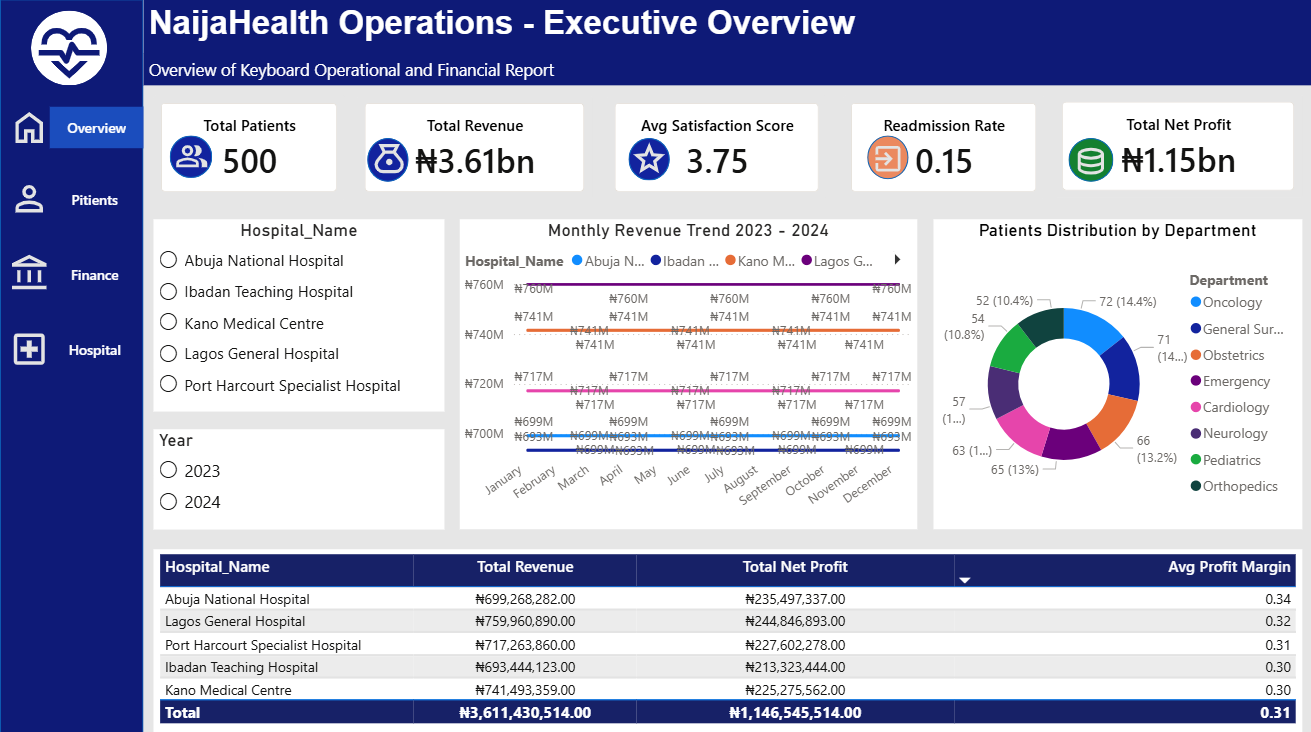

This screenshot's page, from the dashboard's own definition file:
{"tool":"powerbi","page":{"name":"Executive Overview","canvas":[1280,720],"ordinal":0},"visuals":[{"type":"textbox","box":[152,10.9,1128,51.9],"z":0},{"type":"cardVisual","fields":{"Data":["> Measures.Total Patients"]},"box":[161.7,103.8,184.6,100.1],"z":1000},{"type":"cardVisual","fields":{"Data":["> Measures.Total Net Profit"]},"box":[1031.5,102.5,238.9,100.1],"z":2000},{"type":"cardVisual","fields":{"Data":["> Measures.Readmission Rate"]},"box":[827.6,103.8,193,100.1],"z":3000},{"type":"cardVisual","fields":{"Data":["> Measures.Total Revenue"]},"box":[358.3,103.8,226.8,100.1],"z":4000},{"type":"cardVisual","fields":{"Data":["> Measures.Avg Satisfaction Score"]},"box":[599.6,103.8,211.1,100.1],"z":5000},{"type":"lineChart","title":"Monthly Revenue Trend 2023 - 2024","fields":{"Category":["DateTable.Date.Variation.Date Hierarchy.Month"],"Y":["> Measures.Total Revenue"],"Series":["Hospital.Hospital_Name"]},"box":[457.2,223.2,441.6,299.2],"z":6000},{"type":"donutChart","title":"Patients Distribution by Department","fields":{"Category":["Patient_Records.Department"],"Y":["> Measures.Total Patients"]},"box":[914.5,223.2,355.9,299.2],"z":7000},{"type":"tableEx","fields":{"Values":["Hospital.Hospital_Name","> Measures.Total Revenue","> Measures.Total Net Profit","> Measures.Avg Profit Margin"]},"box":[161.7,541.7,1108.7,178.6],"z":8000},{"type":"listSlicer","fields":{"Values":["Hospital.Hospital_Name"]},"box":[161.7,223.2,281.1,185.8],"z":9000},{"type":"listSlicer","fields":{"Values":["DateTable.Date.Variation.Date Hierarchy.Year"]},"box":[161.7,425.9,281.1,96.5],"z":10000},{"type":"shape","box":[13.3,10.9,138.7,709.4],"z":11000},{"type":"shape","box":[43.4,21.7,73.6,72.4],"z":12000},{"type":"image","box":[48.3,16.9,63.9,91.7],"z":13000},{"type":"textbox","box":[152,62.7,1128,31.4],"z":14000},{"type":"actionButton","box":[61.5,114.6,90.5,39.8],"z":15000},{"type":"actionButton","box":[61.5,183.4,86.9,39.8],"z":16000},{"type":"actionButton","box":[61.5,255.8,86.9,39.8],"z":17000},{"type":"actionButton","box":[61.5,324.5,86.9,48.3],"z":18000},{"type":"image","box":[21.7,114.6,39.8,39.8],"z":20000},{"type":"image","box":[21.7,183.4,39.8,39.8],"z":21000},{"type":"image","box":[21.7,324.5,39.8,48.3],"z":23000},{"type":"image","box":[21.7,255.8,39.8,39.8],"z":24000},{"type":"shape","box":[368,144.8,39.8,42.2],"z":25000},{"type":"image","box":[368,146,42.2,37.4],"z":26000},{"type":"shape","box":[620.1,144.8,39.8,41],"z":27000},{"type":"shape","box":[850.5,142.4,39.8,42.2],"z":28000},{"type":"shape","box":[1044.8,144.8,43.4,42.2],"z":29000},{"type":"image","box":[620.1,146,39.8,37.4],"z":30000},{"type":"image","box":[850.5,148.4,39.8,32.6],"z":31000},{"type":"image","box":[1049.6,146,33.8,42.2],"z":32000},{"type":"shape","box":[177.3,142.4,41,41],"z":33000},{"type":"image","box":[182.2,142.4,32.6,39.8],"z":34000}]}

Visuals, with their boxes on the page's 1280x720 design canvas (x1, y1, x2, y2). These are canvas units, not pixel positions in the 1311x732 screenshot, which may show the page scaled, cropped or inside an application window:
textbox: left=152, top=11, right=1280, bottom=63
cardVisual - > Measures.Total Patients: left=162, top=104, right=346, bottom=204
cardVisual - > Measures.Total Net Profit: left=1032, top=102, right=1270, bottom=203
cardVisual - > Measures.Readmission Rate: left=828, top=104, right=1021, bottom=204
cardVisual - > Measures.Total Revenue: left=358, top=104, right=585, bottom=204
cardVisual - > Measures.Avg Satisfaction Score: left=600, top=104, right=811, bottom=204
"Monthly Revenue Trend 2023 - 2024" lineChart: left=457, top=223, right=899, bottom=522
"Patients Distribution by Department" donutChart: left=914, top=223, right=1270, bottom=522
tableEx - Hospital.Hospital_Name x > Measures.Total Revenue: left=162, top=542, right=1270, bottom=720
listSlicer - Hospital.Hospital_Name: left=162, top=223, right=443, bottom=409
listSlicer - DateTable.Date.Variation.Date Hierarchy.Year: left=162, top=426, right=443, bottom=522
shape: left=13, top=11, right=152, bottom=720
shape: left=43, top=22, right=117, bottom=94
image: left=48, top=17, right=112, bottom=109
textbox: left=152, top=63, right=1280, bottom=94
actionButton: left=62, top=115, right=152, bottom=154
actionButton: left=62, top=183, right=148, bottom=223
actionButton: left=62, top=256, right=148, bottom=296
actionButton: left=62, top=324, right=148, bottom=373
image: left=22, top=115, right=62, bottom=154
image: left=22, top=183, right=62, bottom=223
image: left=22, top=324, right=62, bottom=373
image: left=22, top=256, right=62, bottom=296
shape: left=368, top=145, right=408, bottom=187
image: left=368, top=146, right=410, bottom=183
shape: left=620, top=145, right=660, bottom=186
shape: left=850, top=142, right=890, bottom=185
shape: left=1045, top=145, right=1088, bottom=187
image: left=620, top=146, right=660, bottom=183
image: left=850, top=148, right=890, bottom=181
image: left=1050, top=146, right=1083, bottom=188
shape: left=177, top=142, right=218, bottom=183
image: left=182, top=142, right=215, bottom=182
